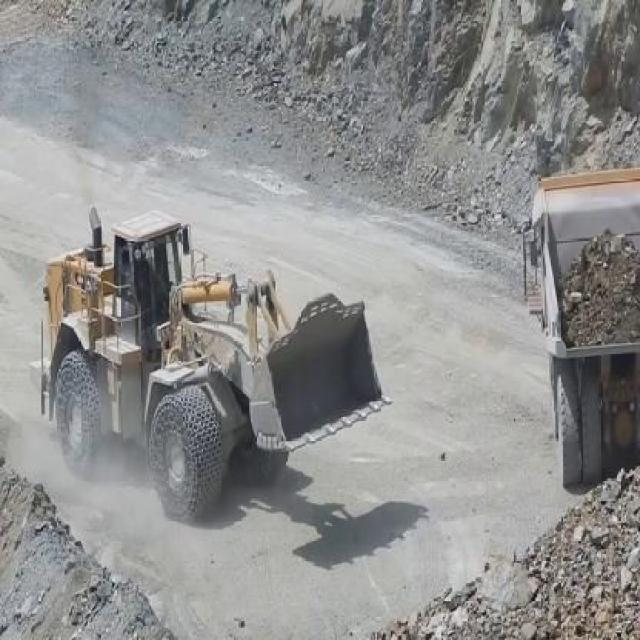Dump Truck: (521, 173, 639, 495)
Loader: (36, 205, 393, 521)
